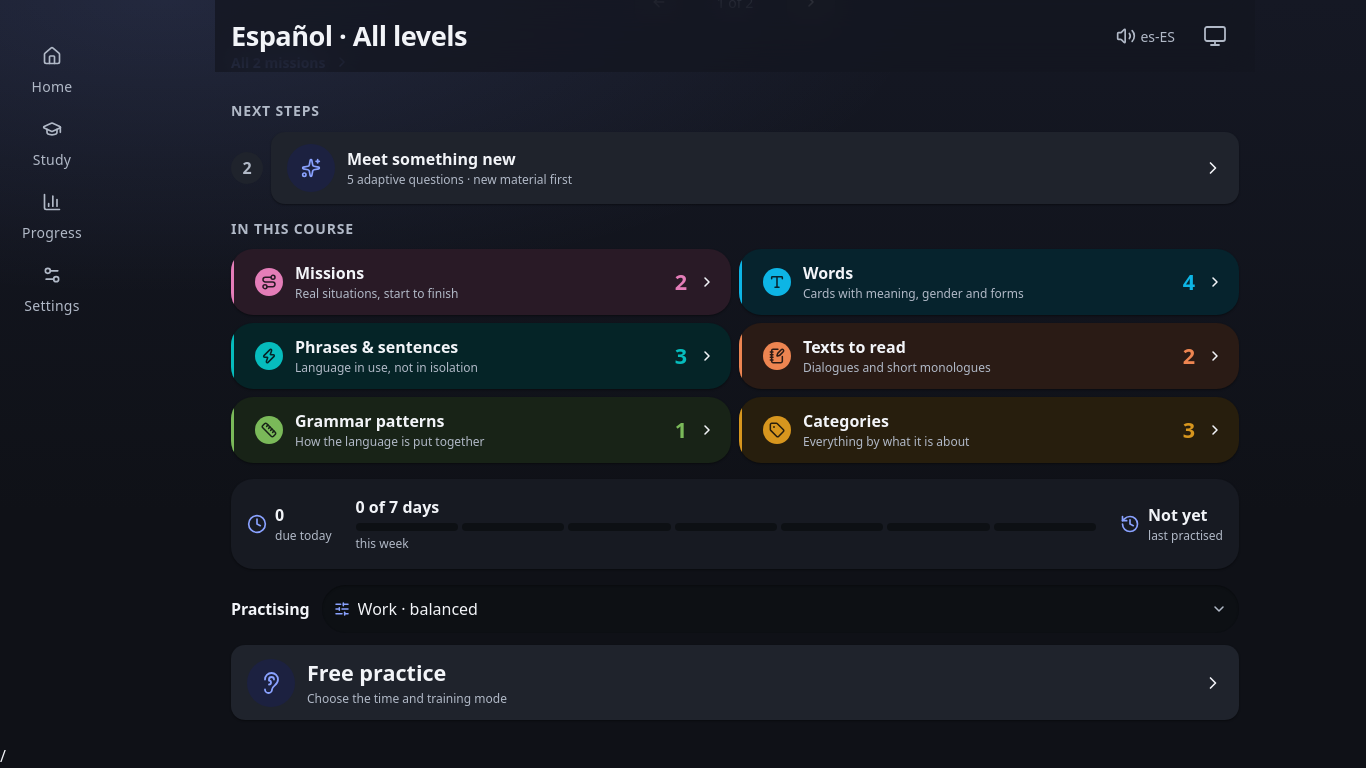
Test: the session the choice starts › keeps the reachable half of a mixed choice
The width and height of the screenshot is (1366, 768).
(page scrolled)
Check: the heading "Español · All levels" is shown, box [231,17,467,54]
Click the button "Free practice Choose the time and training mode" at {"x": 271, "y": 683}, box [231,645,1239,720]
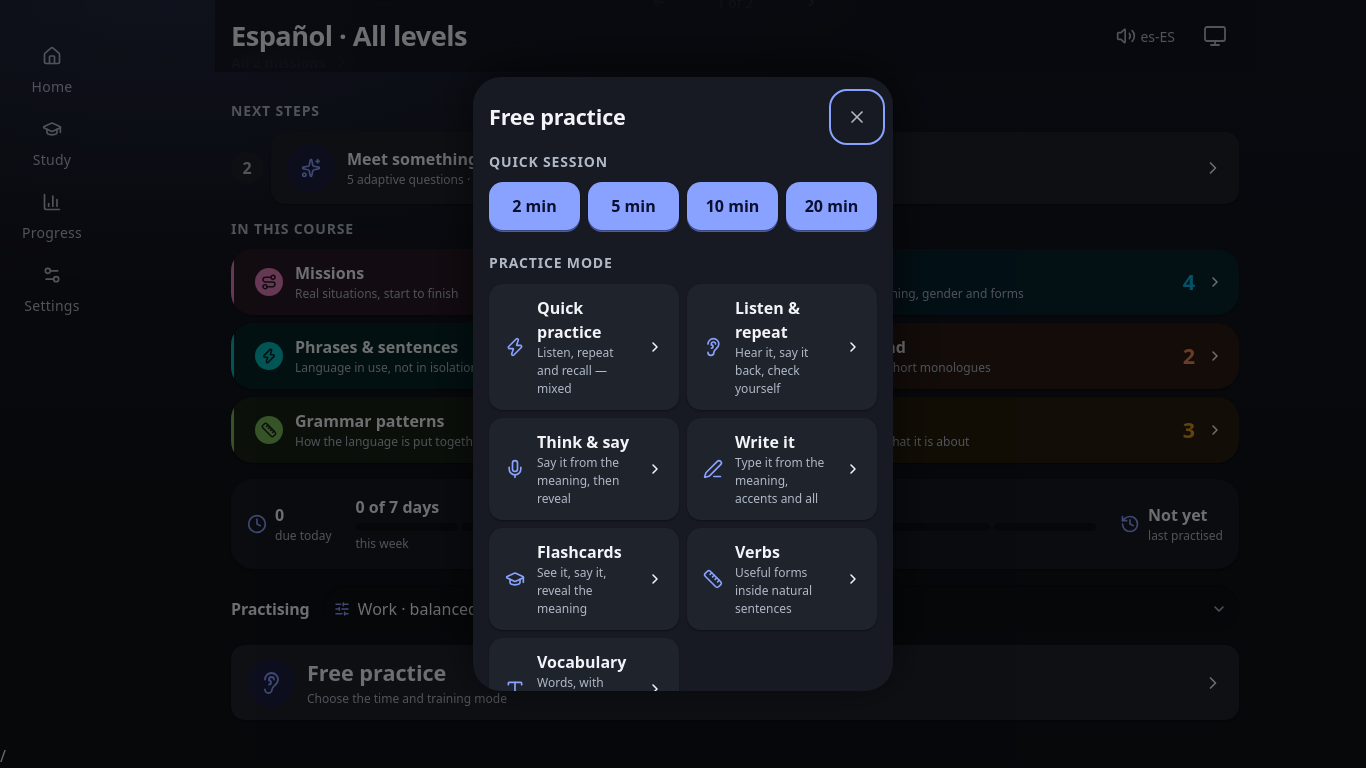
Click the button "5 min" at {"x": 634, "y": 206}, box [588,182,679,230]
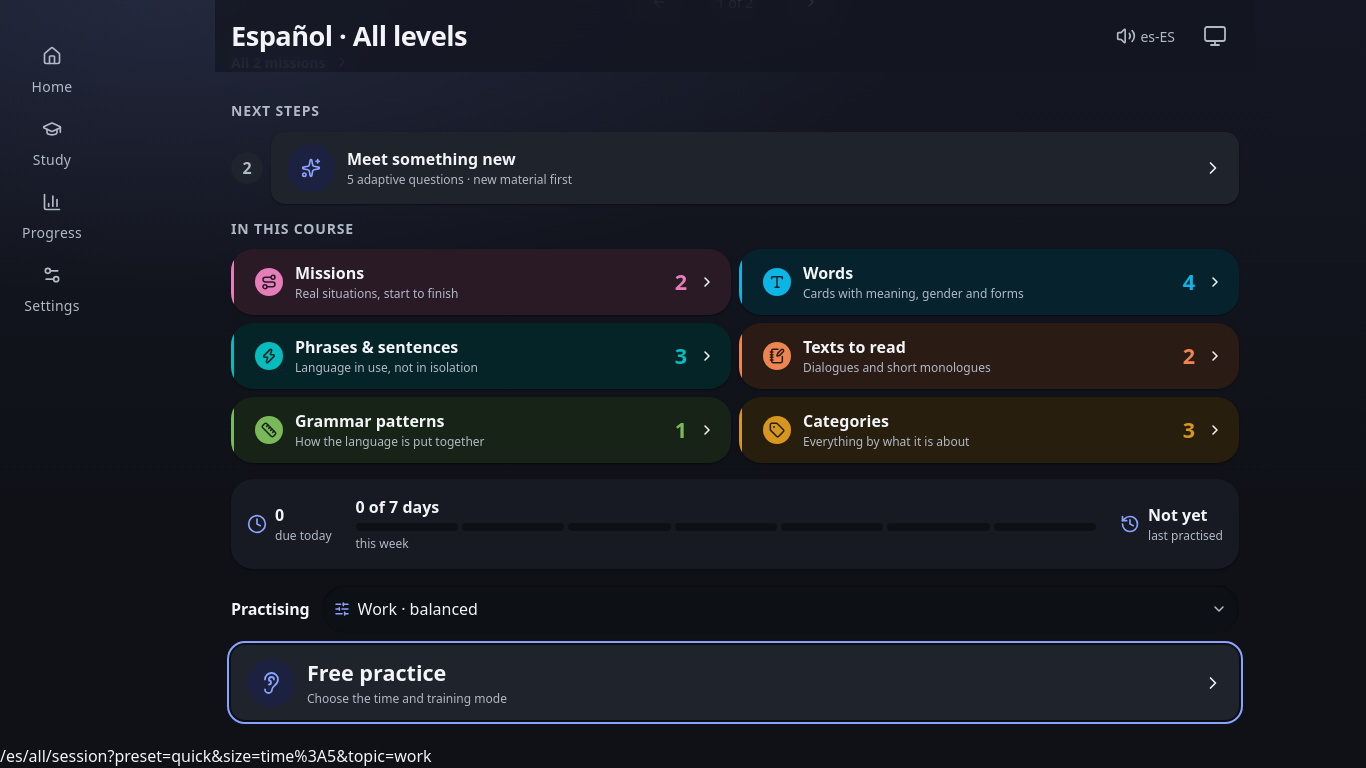
Check: the text with test id "where" shows "topic=work", box [0,745,432,767]
